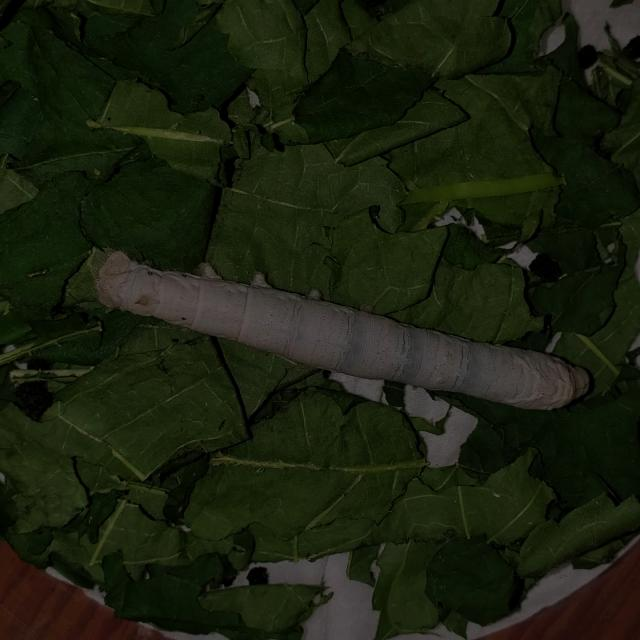Healthy: (86, 230, 596, 446)
